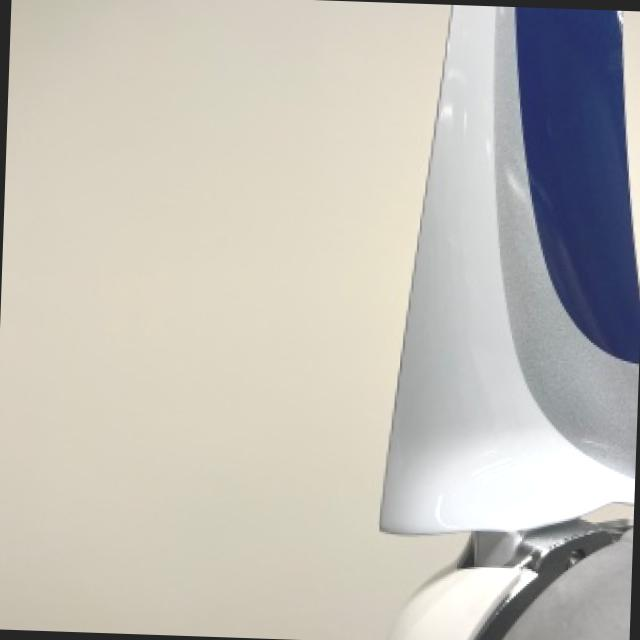healthy: (383, 4, 639, 640)
